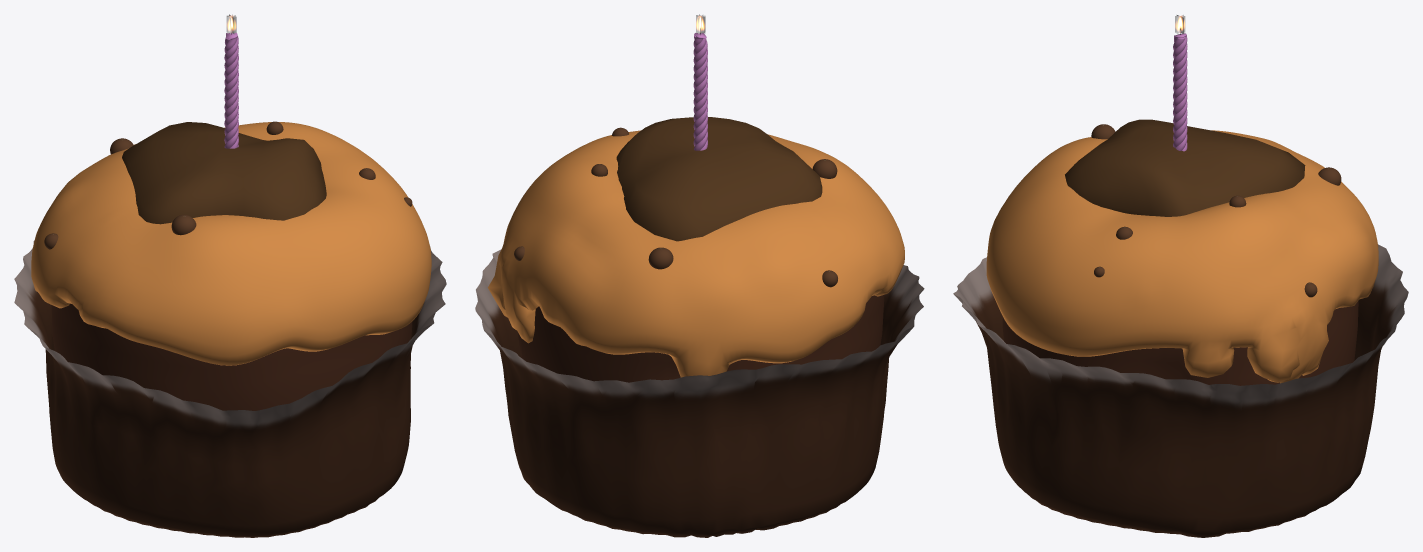
Rendered from cake7.glb.
3 renders of one model, left to right at view 1: azimuth 30°, elevation 25°; view 2: azimuth 150°, elevation 25°; view 3: azimuth 270°, elevation 25°, orthographic.
Parts seen in each view (by area): view 1: Icing, Cup, Chocolate Sauce, Cake, Candle; view 2: Cup, Icing, Chocolate Sauce, Cake, Candle; view 3: Cup, Icing, Chocolate Sauce, Cake, Candle.
Boxes of the visible parts, x1,y1,x2,y2 form: Icing: [31, 122, 431, 365]; Cup: [14, 240, 446, 537]; Chocolate Sauce: [122, 122, 326, 224]; Cake: [51, 303, 412, 410]; Candle: [224, 33, 238, 148]; Cup: [475, 249, 924, 537]; Icing: [488, 130, 904, 377]; Chocolate Sauce: [616, 117, 822, 241]; Cake: [518, 294, 884, 382]; Candle: [693, 33, 707, 150]; Cup: [953, 244, 1408, 537]; Icing: [986, 130, 1378, 383]; Chocolate Sauce: [1065, 119, 1305, 216]; Cake: [1002, 300, 1358, 385]; Candle: [1173, 33, 1187, 151].
Bounding box in the file's own units: 0.1228 × 0.1375 × 0.1253.
8 materials, 6 textured.
